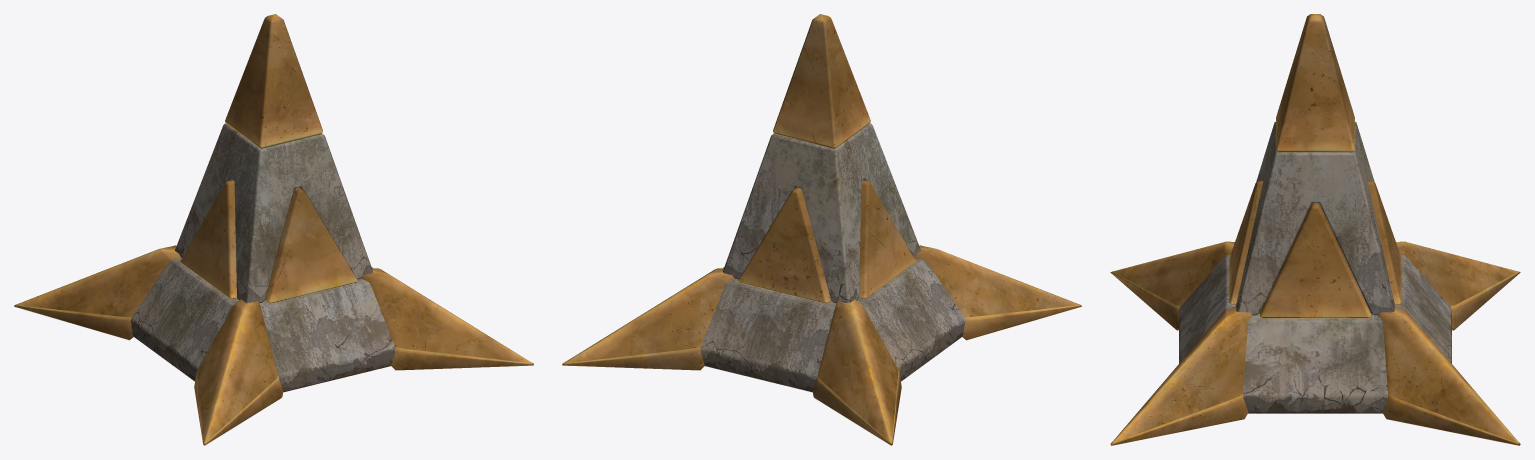
The picture shows the model from 3 angles, left to right: view 1: azimuth 30°, elevation 25°; view 2: azimuth 150°, elevation 25°; view 3: azimuth 270°, elevation 25°; orthographic projection. The views are drawn at different scales.
Parts seen in each view (by area): view 1: SM_Flamethrower_Trap_01_LOD0; view 2: SM_Flamethrower_Trap_01_LOD0; view 3: SM_Flamethrower_Trap_01_LOD0.
Boxes of the visible parts, left/top/right/bottom form: SM_Flamethrower_Trap_01_LOD0: left=14, top=14, right=533, bottom=445; SM_Flamethrower_Trap_01_LOD0: left=562, top=14, right=1081, bottom=445; SM_Flamethrower_Trap_01_LOD0: left=1110, top=14, right=1520, bottom=445.
Bounding box in the file's own units: 0.5615 × 0.5228 × 0.5615.
Materials: 2 (2 with a texture image).
